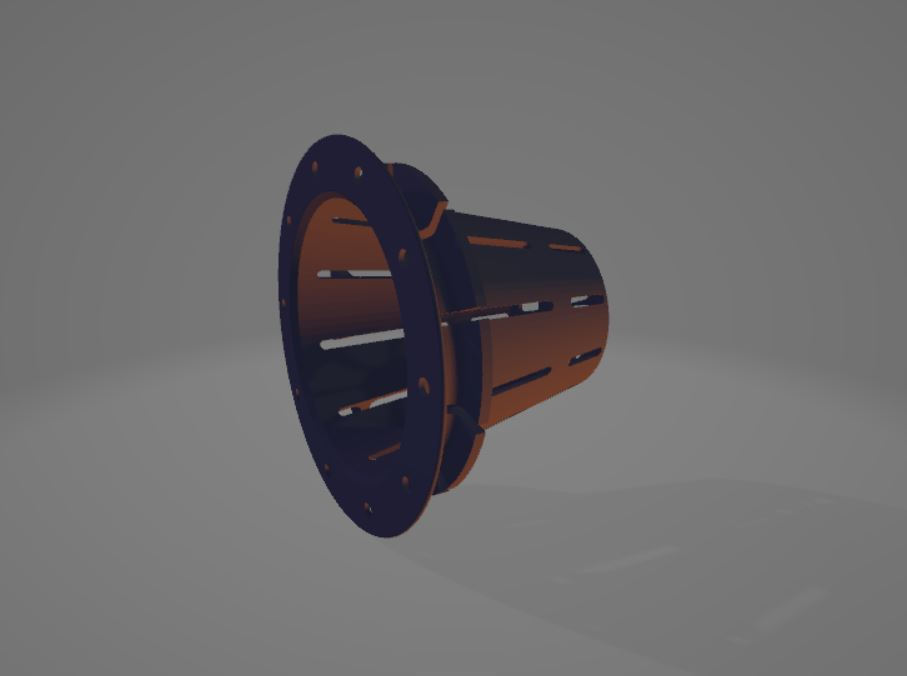basket: (258, 128, 635, 548)
